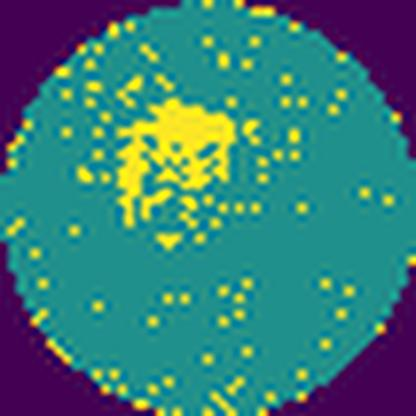Edge-Loc: (112, 94, 237, 230)
